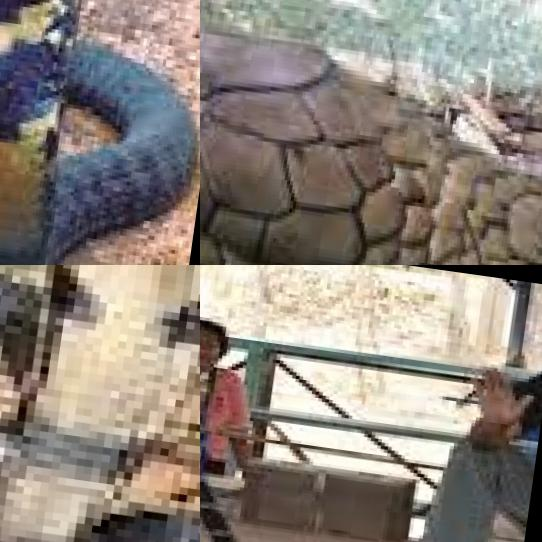snake: (200, 0, 542, 265), (0, 265, 200, 542), (0, 0, 200, 265)
